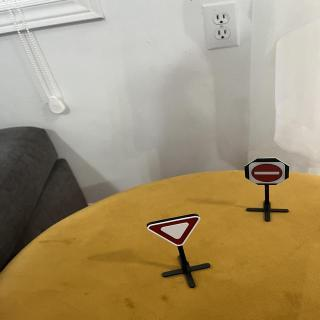sign_noentry: (249, 162, 287, 186)
sign_yield: (147, 216, 204, 248)
